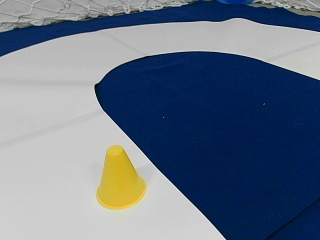cone: (95, 146, 145, 208)
